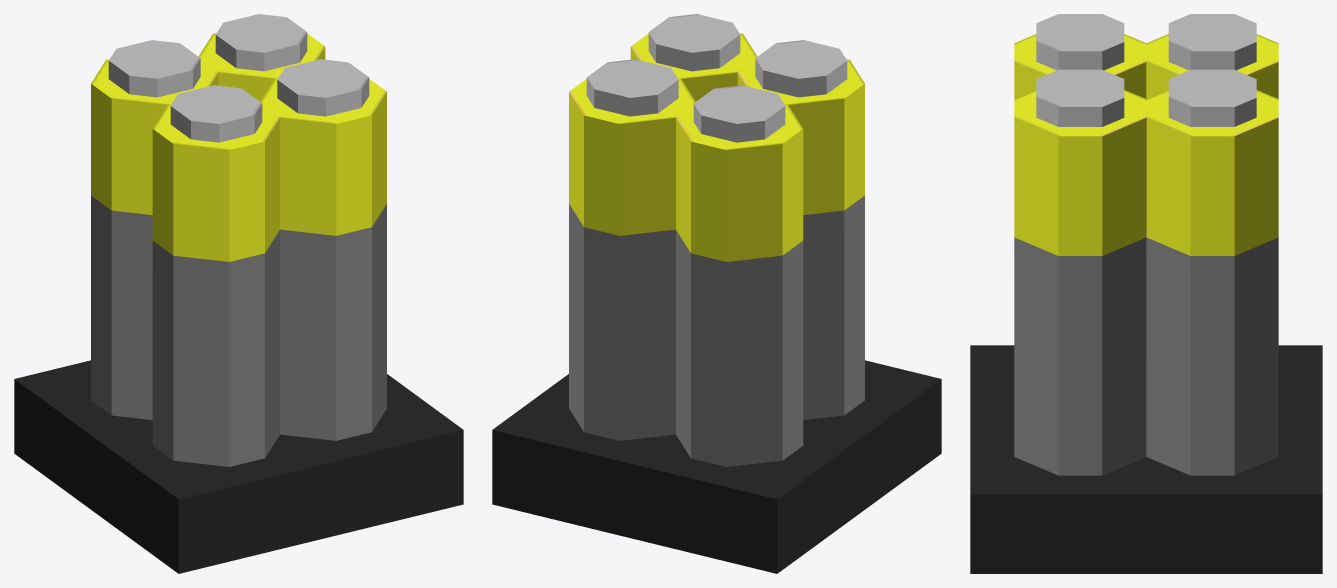
Rendered from battery.glb.
3 views of the same model, side by side, from view 1: azimuth 30°, elevation 25°; view 2: azimuth 150°, elevation 25°; view 3: azimuth 270°, elevation 25° (orthographic). The views are drawn at different scales.
Parts seen in each view (by area): view 1: battery; view 2: battery; view 3: battery.
Part boxes in pixels (x1,y1,x2,y2): battery: (14,14,463,573); battery: (492,14,941,573); battery: (970,14,1322,573).
Bounding box in the file's own units: 4 × 5.5 × 4.
1 material, 1 textured.
